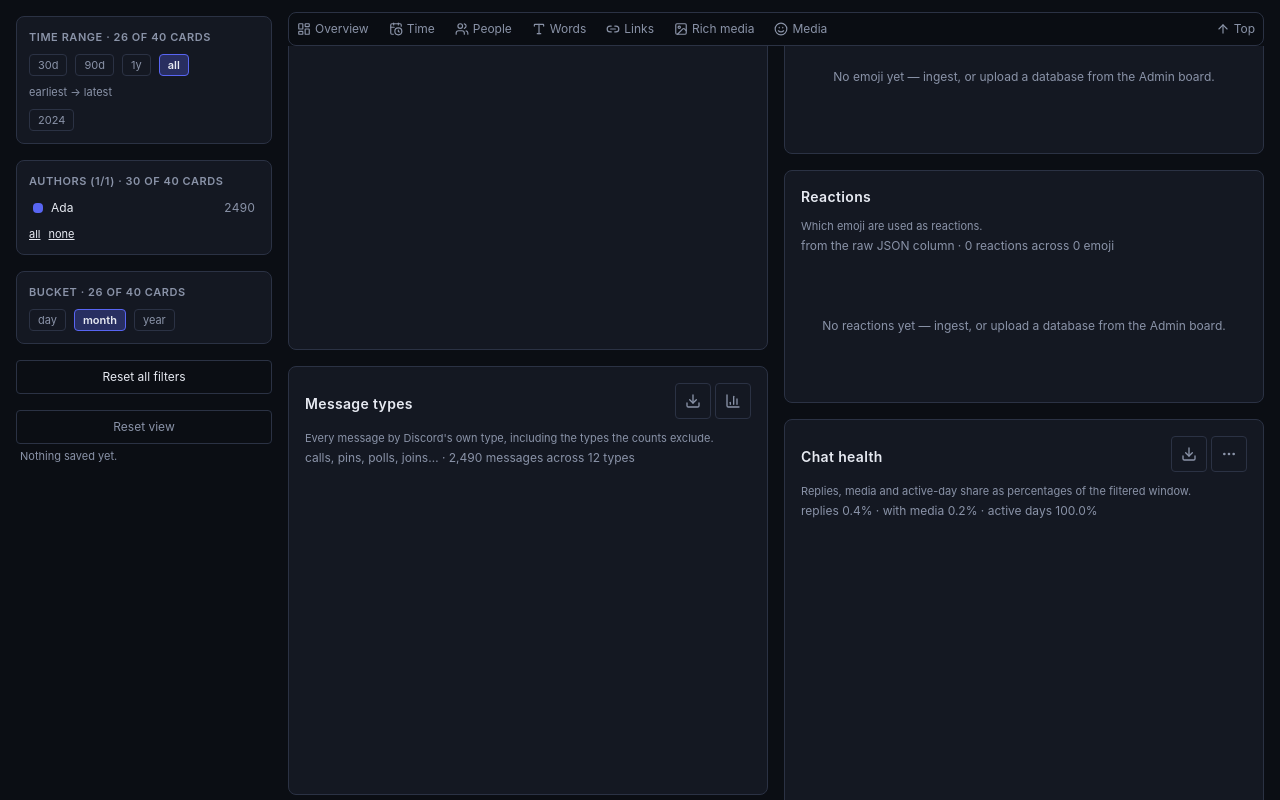
Scenario: a chart shape through the dashboard › redraws from the rows already in hand, without asking the server again
The image size is (1280, 800).
(page scrolled)
Click the button named "Message types as bars": [733, 401] box [715, 383, 751, 419]
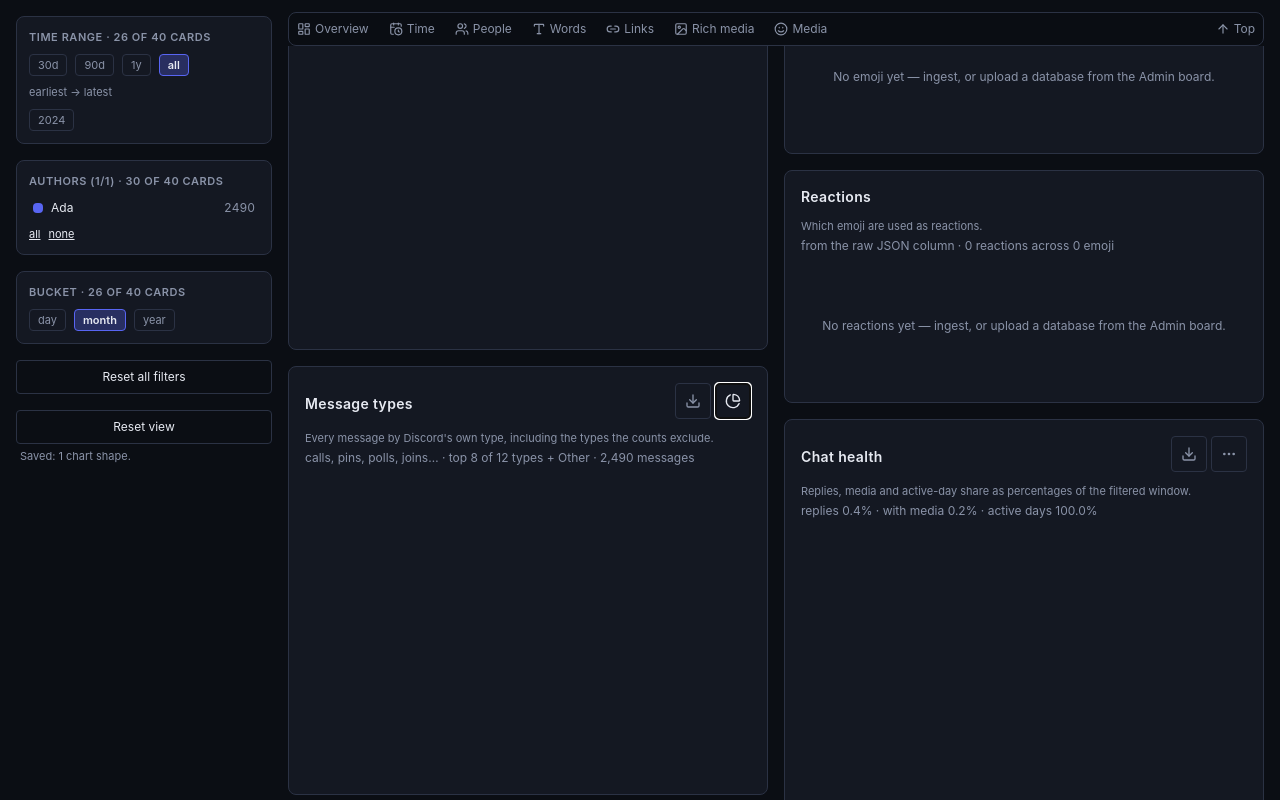
Now the button named "Message types as pie" is shown, box [715, 383, 751, 419]
